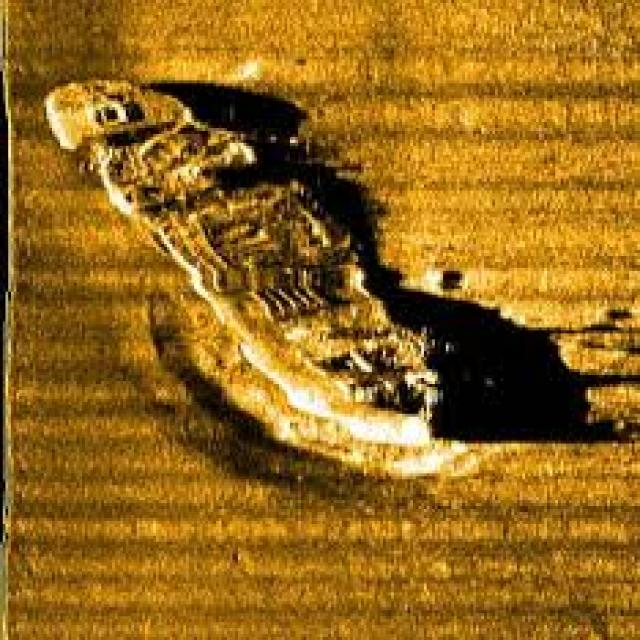ship: (38, 72, 440, 450)
